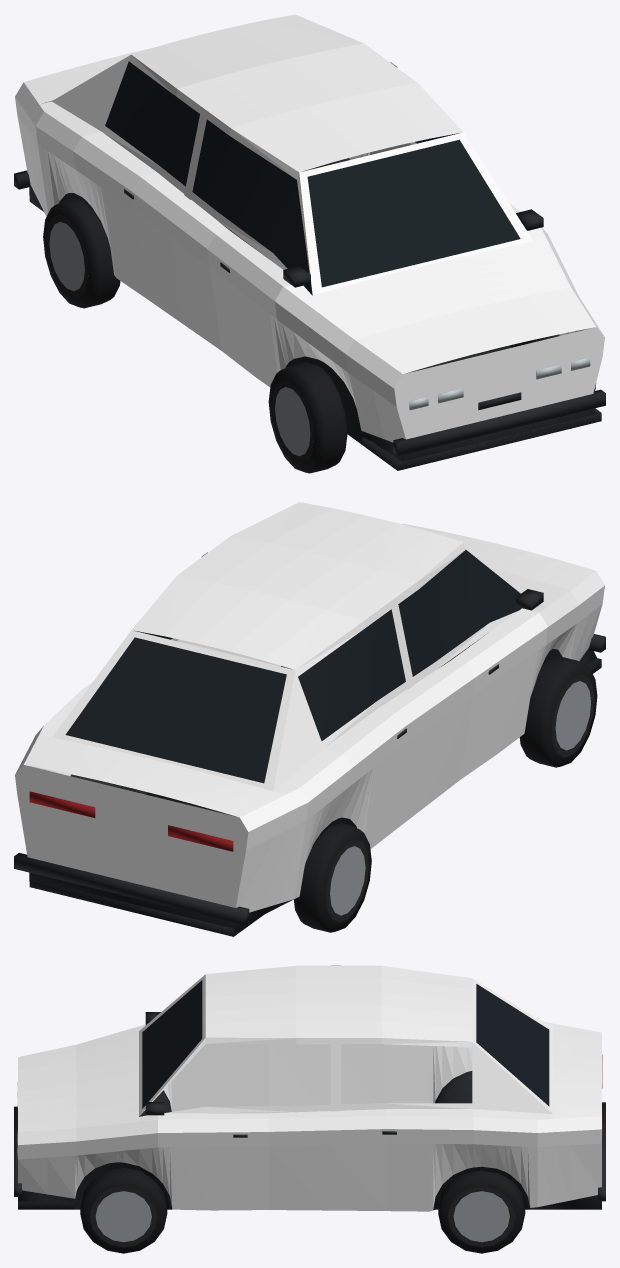
Rendered from whitlock_seta.glb.
3 views of the same model, one above another, from view 1: azimuth 30°, elevation 25°; view 2: azimuth 150°, elevation 25°; view 3: azimuth 270°, elevation 25° (orthographic). The views are drawn at different scales.
Visible parts, largest first — view 1: Body_Paint, Body_Details, Mount_FrontLeft_Wheel_Details, Mount_RearLeft_Wheel_Details; view 2: Body_Paint, Body_Details, Mount_FrontLeft_Wheel_Details, Mount_RearLeft_Wheel_Details; view 3: Body_Paint, Body_Details, Mount_FrontRight_Wheel_Details, Mount_RearRight_Wheel_Details.
Boxes of the visible parts, box(x1,y1,x2,y2) form: Body_Paint: box(15, 14, 604, 442); Body_Details: box(14, 61, 605, 470); Mount_FrontLeft_Wheel_Details: box(268, 362, 347, 473); Mount_RearLeft_Wheel_Details: box(43, 198, 120, 308); Body_Paint: box(15, 502, 604, 912); Body_Details: box(14, 550, 605, 936); Mount_FrontLeft_Wheel_Details: box(519, 656, 597, 767); Mount_RearLeft_Wheel_Details: box(294, 823, 371, 932); Body_Paint: box(18, 965, 601, 1211); Body_Details: box(14, 980, 605, 1210); Mount_FrontRight_Wheel_Details: box(80, 1168, 167, 1253); Mount_RearRight_Wheel_Details: box(438, 1170, 525, 1253).
Size of the model in its own units: 1.77 by 1.54 by 4.09.
2 materials, 1 textured.
